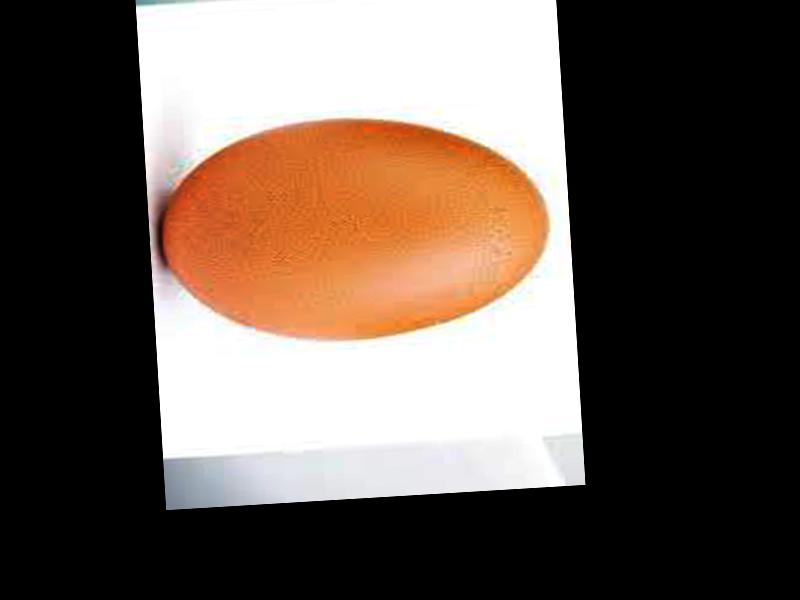Eggs: (155, 107, 553, 350)
